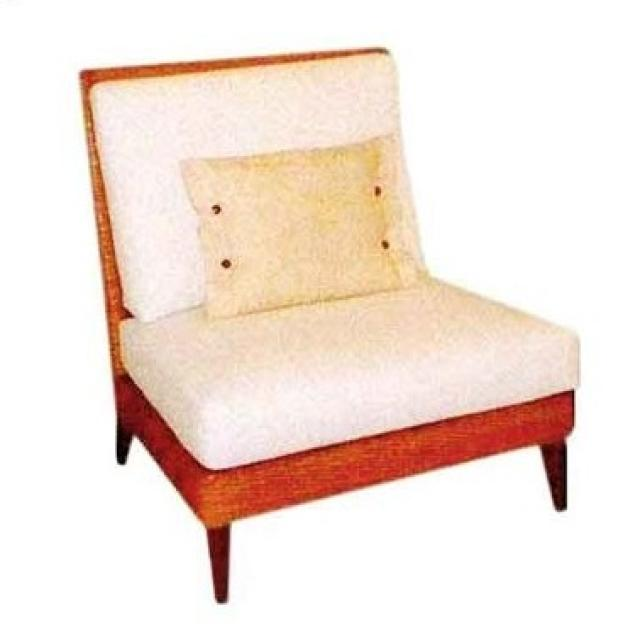chair: (69, 43, 578, 602)
